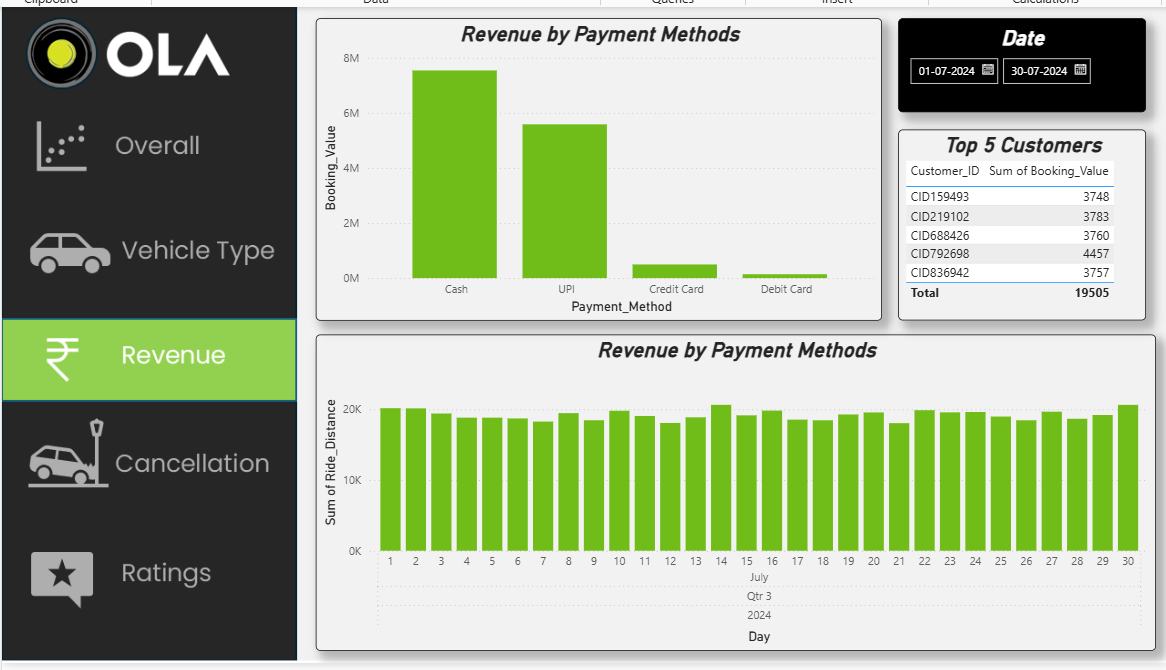

The page's visual inventory and layout, read from the dashboard file:
{"tool":"powerbi","page":{"name":"Revenue","canvas":[1280,720],"ordinal":2},"visuals":[{"type":"actionButton","box":[0,200.3,325.7,114.6],"z":0},{"type":"actionButton","box":[0,115.8,325.7,84.5],"z":1000},{"type":"actionButton","box":[0,333,325.7,114.6],"z":2000},{"type":"actionButton","box":[0,431.9,325.7,114.6],"z":3000},{"type":"actionButton","box":[0,565.8,325.7,114.6],"z":4000},{"type":"columnChart","title":"Revenue by Payment Methods","fields":{"Y":["Sum(July.Booking_Value)"],"Category":["July.Payment_Method"]},"box":[344.4,12.3,621.6,332.1],"z":5000},{"type":"columnChart","title":"Revenue by Payment Methods","fields":{"Y":["Sum(July.Ride_Distance)"],"Category":["July.Date.Variation.Date Hierarchy.Year","July.Date.Variation.Date Hierarchy.Quarter","July.Date.Variation.Date Hierarchy.Month","July.Date.Variation.Date Hierarchy.Day"]},"box":[344.4,359.5,922.1,347.2],"z":6000},{"type":"slicer","title":"Date","fields":{"Values":["July.Date"]},"box":[983.9,12.3,271.7,102.9],"z":7000},{"type":"tableEx","title":"Top 5 Customers","fields":{"Values":["July.Customer_ID","Sum(July.Booking_Value)"]},"box":[983.9,134.5,271.7,209.9],"z":8000}]}

Visuals, with their boxes on the page's 1280x720 design canvas (x1, y1, x2, y2). These are canvas units, not pixel positions in the 1166x670 screenshot, which may show the page scaled, cropped or inside an application window:
actionButton: crop(0, 200, 326, 315)
actionButton: crop(0, 116, 326, 200)
actionButton: crop(0, 333, 326, 448)
actionButton: crop(0, 432, 326, 546)
actionButton: crop(0, 566, 326, 680)
"Revenue by Payment Methods" columnChart: crop(344, 12, 966, 344)
"Revenue by Payment Methods" columnChart: crop(344, 360, 1266, 707)
"Date" slicer: crop(984, 12, 1256, 115)
"Top 5 Customers" tableEx: crop(984, 134, 1256, 344)
